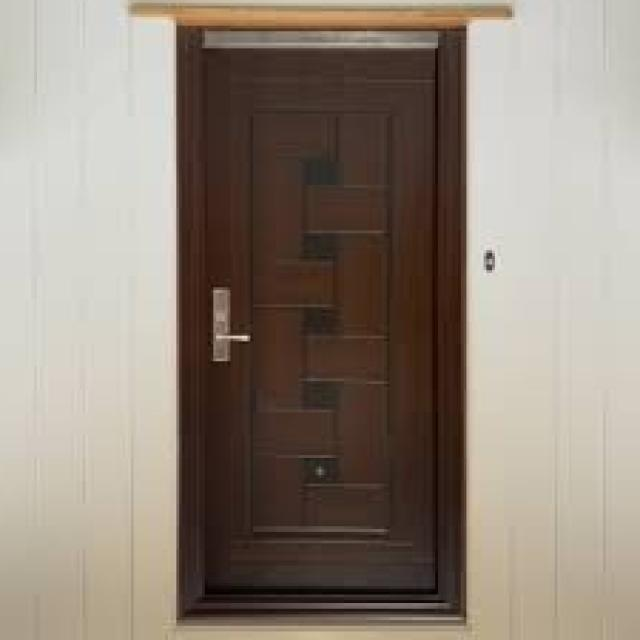door: (188, 33, 446, 604)
